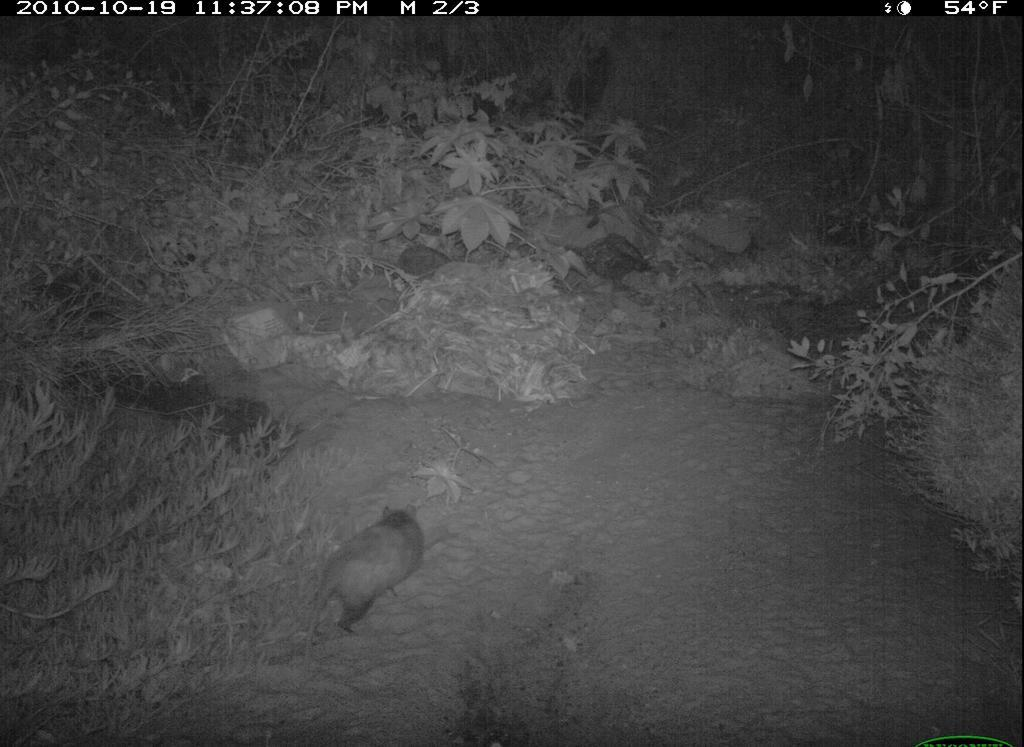opossum: (285, 488, 455, 666)
